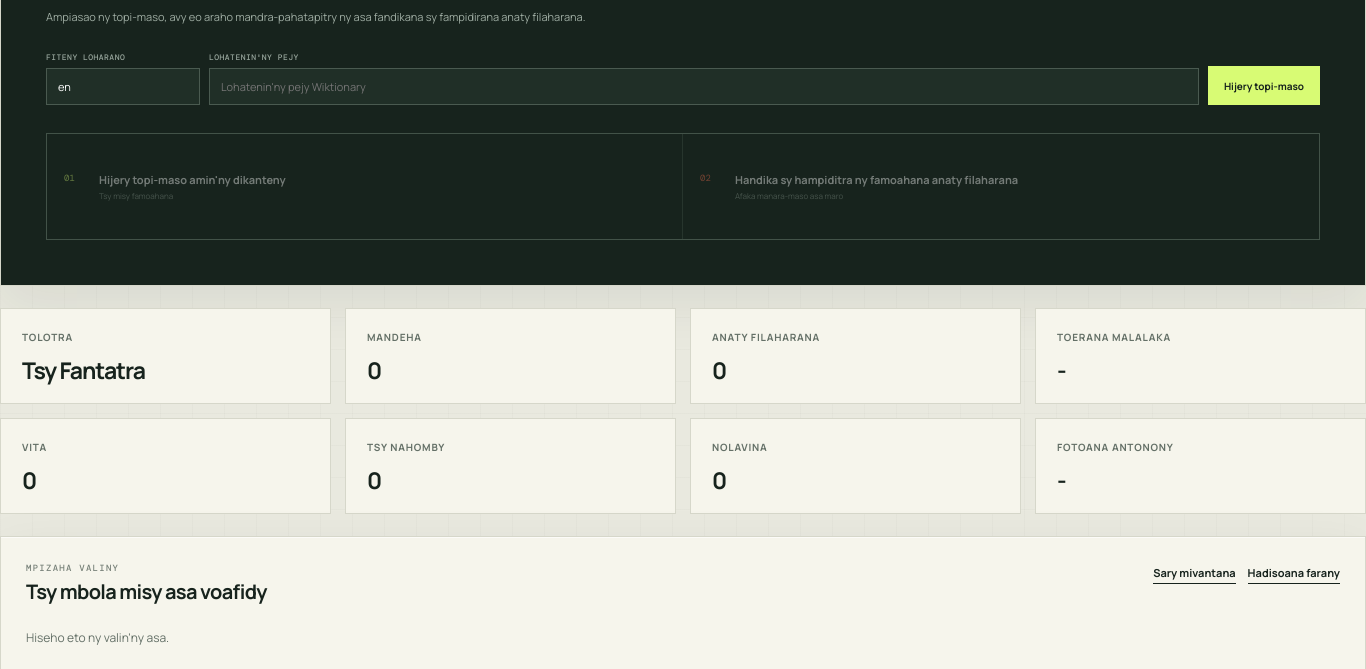
Test: TranslatorWorkspace › shows a completed preview immediately without refreshing or awaiting health
Type "house" into the field labelled "Lohatenin'ny pejy" at (704, 86), box [209,68,1199,105]
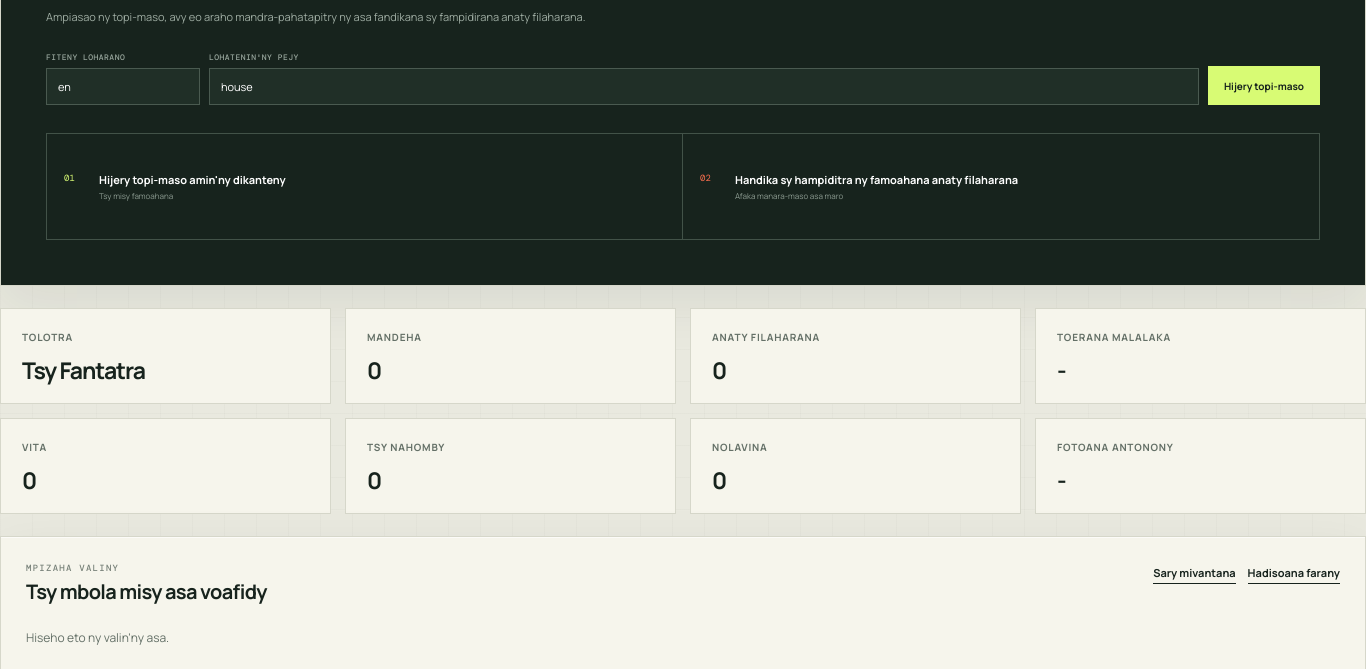
Click the button "Hijery topi-maso" at (1264, 86), box [1208,66,1320,105]
(page scrolled)
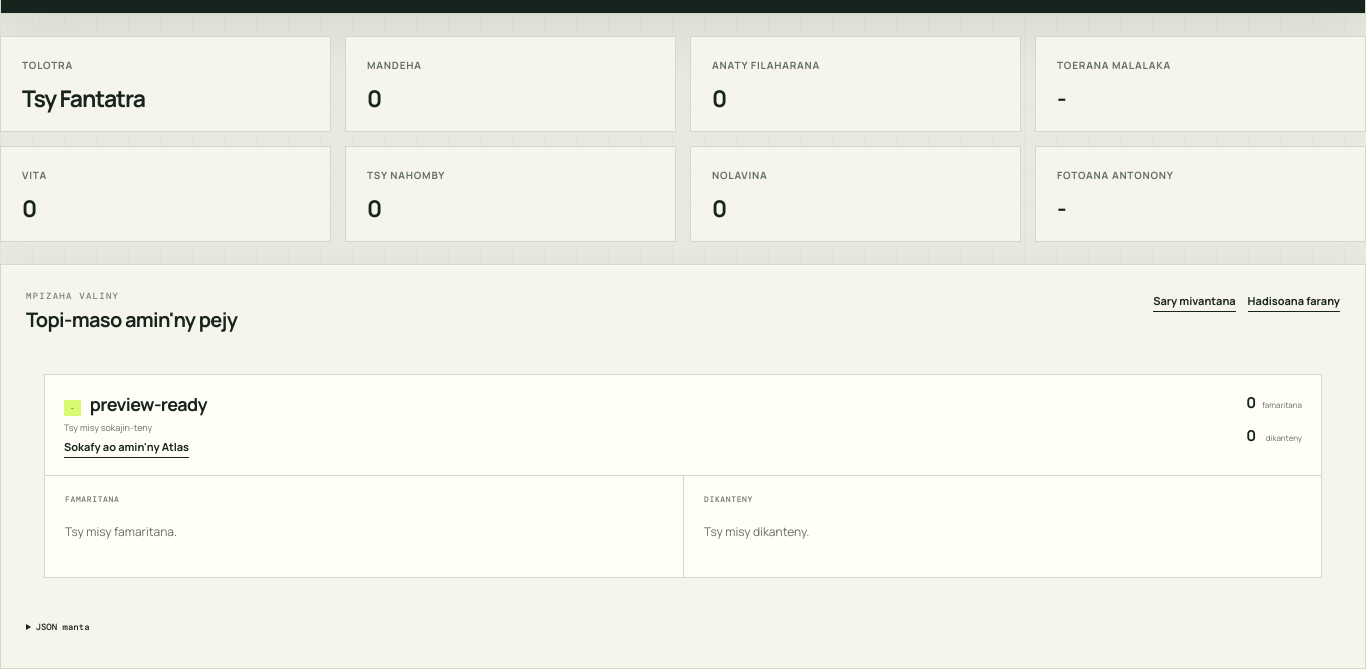
Check: the heading "preview-ready" is shown, box [90,392,207,416]
